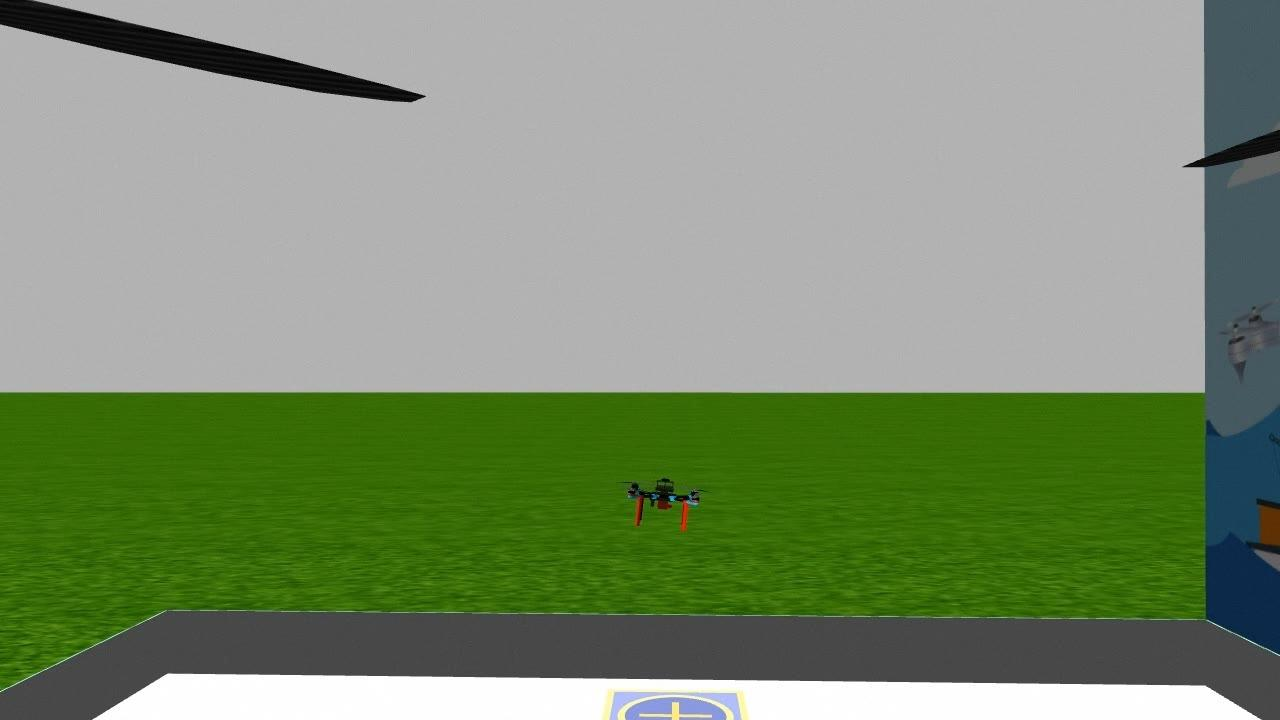UAV: (608, 469, 714, 538)
